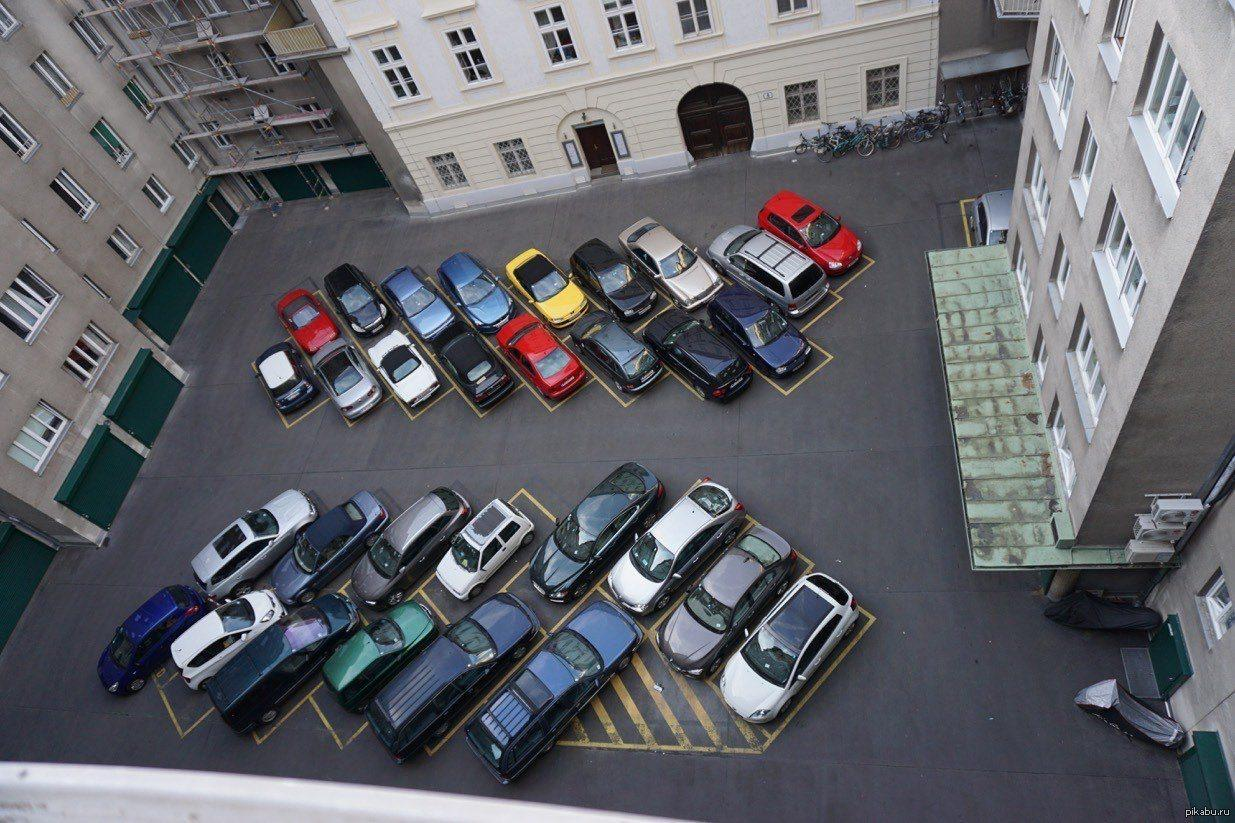empty: (370, 592, 534, 765), (651, 499, 785, 680), (721, 561, 865, 722), (204, 589, 354, 736), (485, 610, 632, 758), (541, 471, 654, 604), (340, 569, 428, 724), (170, 571, 278, 696), (209, 491, 329, 597), (429, 494, 528, 602), (360, 497, 460, 603), (100, 590, 198, 697), (717, 253, 815, 350), (724, 229, 823, 312), (724, 298, 823, 376), (773, 198, 875, 272), (626, 228, 717, 303), (665, 326, 756, 401), (572, 245, 654, 319), (584, 321, 667, 392), (439, 257, 518, 326), (505, 256, 584, 323), (513, 333, 590, 396), (378, 342, 445, 410), (448, 339, 517, 404), (388, 274, 458, 337), (329, 273, 394, 338), (328, 346, 387, 415), (258, 339, 315, 410), (275, 286, 332, 351)
